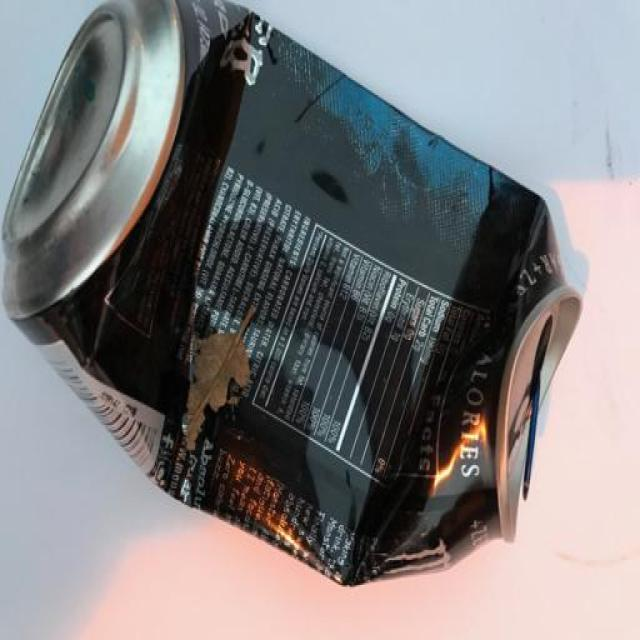Metal: (0, 0, 585, 587)
